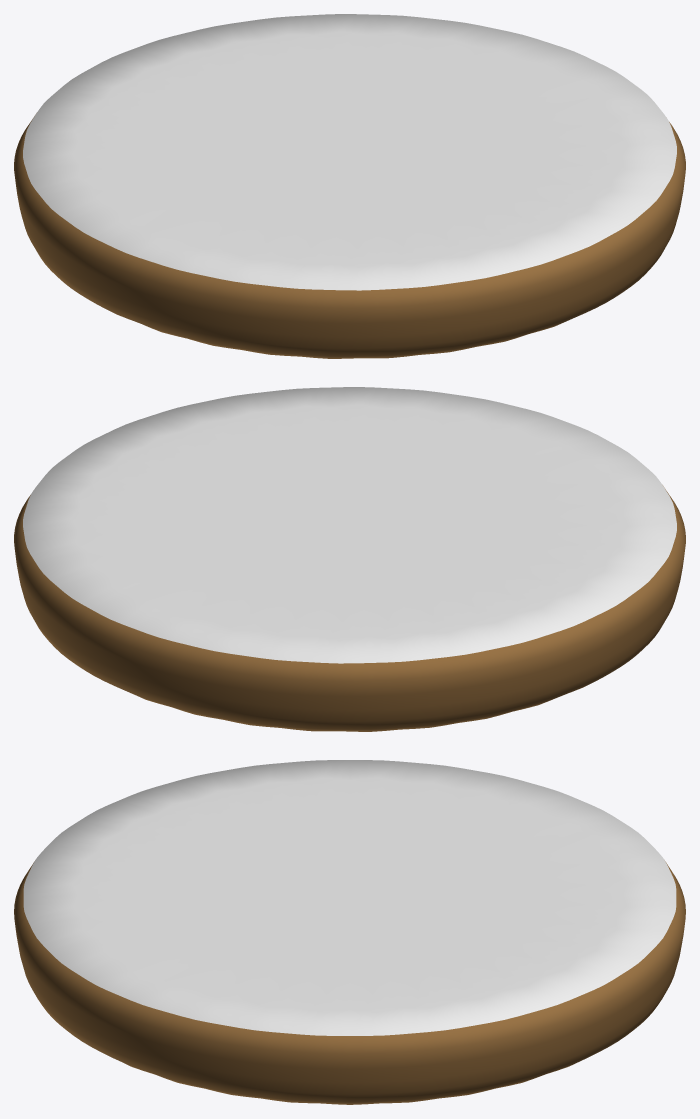
File: breadbottom.fbx
3 renders of one model, top to bottom at view 1: azimuth 30°, elevation 25°; view 2: azimuth 150°, elevation 25°; view 3: azimuth 270°, elevation 25°, orthographic.
Visible parts, largest first — view 1: Circle.004; view 2: Circle.004; view 3: Circle.004.
Part boxes in pixels (x1,y1,x2,y2): Circle.004: [14, 14, 685, 358]; Circle.004: [14, 387, 685, 731]; Circle.004: [14, 760, 685, 1104].
Size of the model in its own units: 198 by 30.21 by 198.
